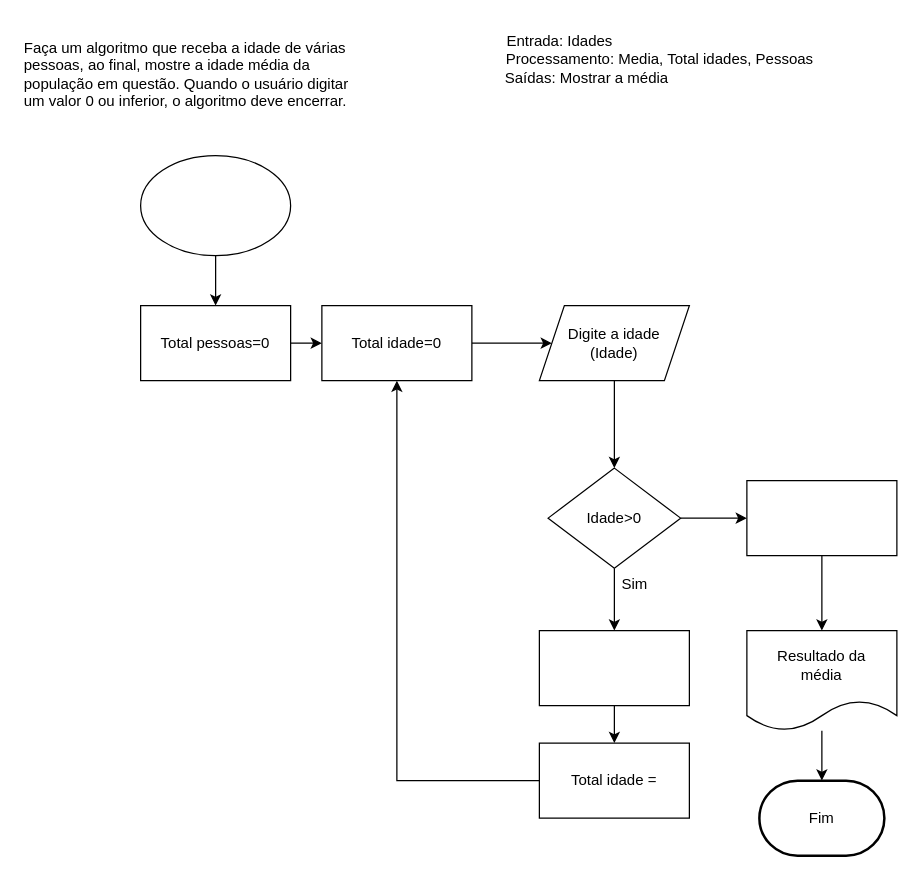
This 919x878 diagram has some shape labels left out. Each missing label, with the centre of its shape:
Início: [215,205]
Media = ( total idade / total pessoas: [821,517]
Total pessoas++: [613,667]
